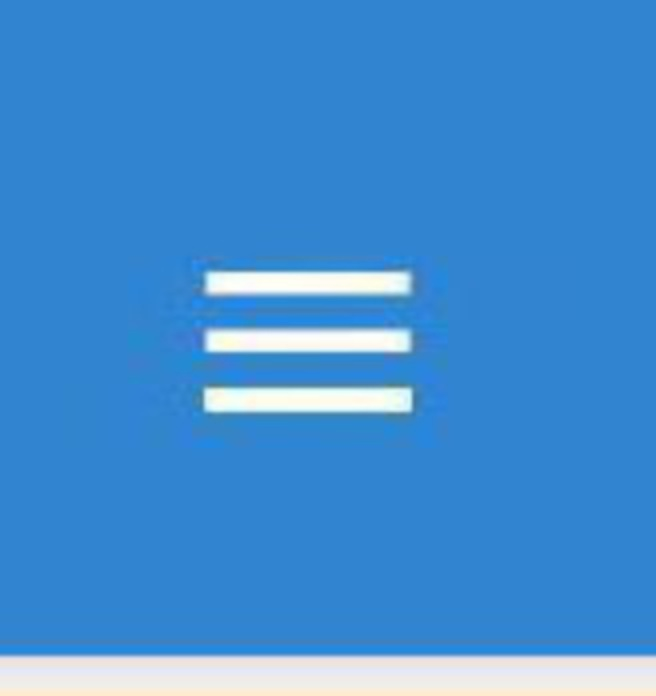ImgButton: (1, 1, 655, 695)
